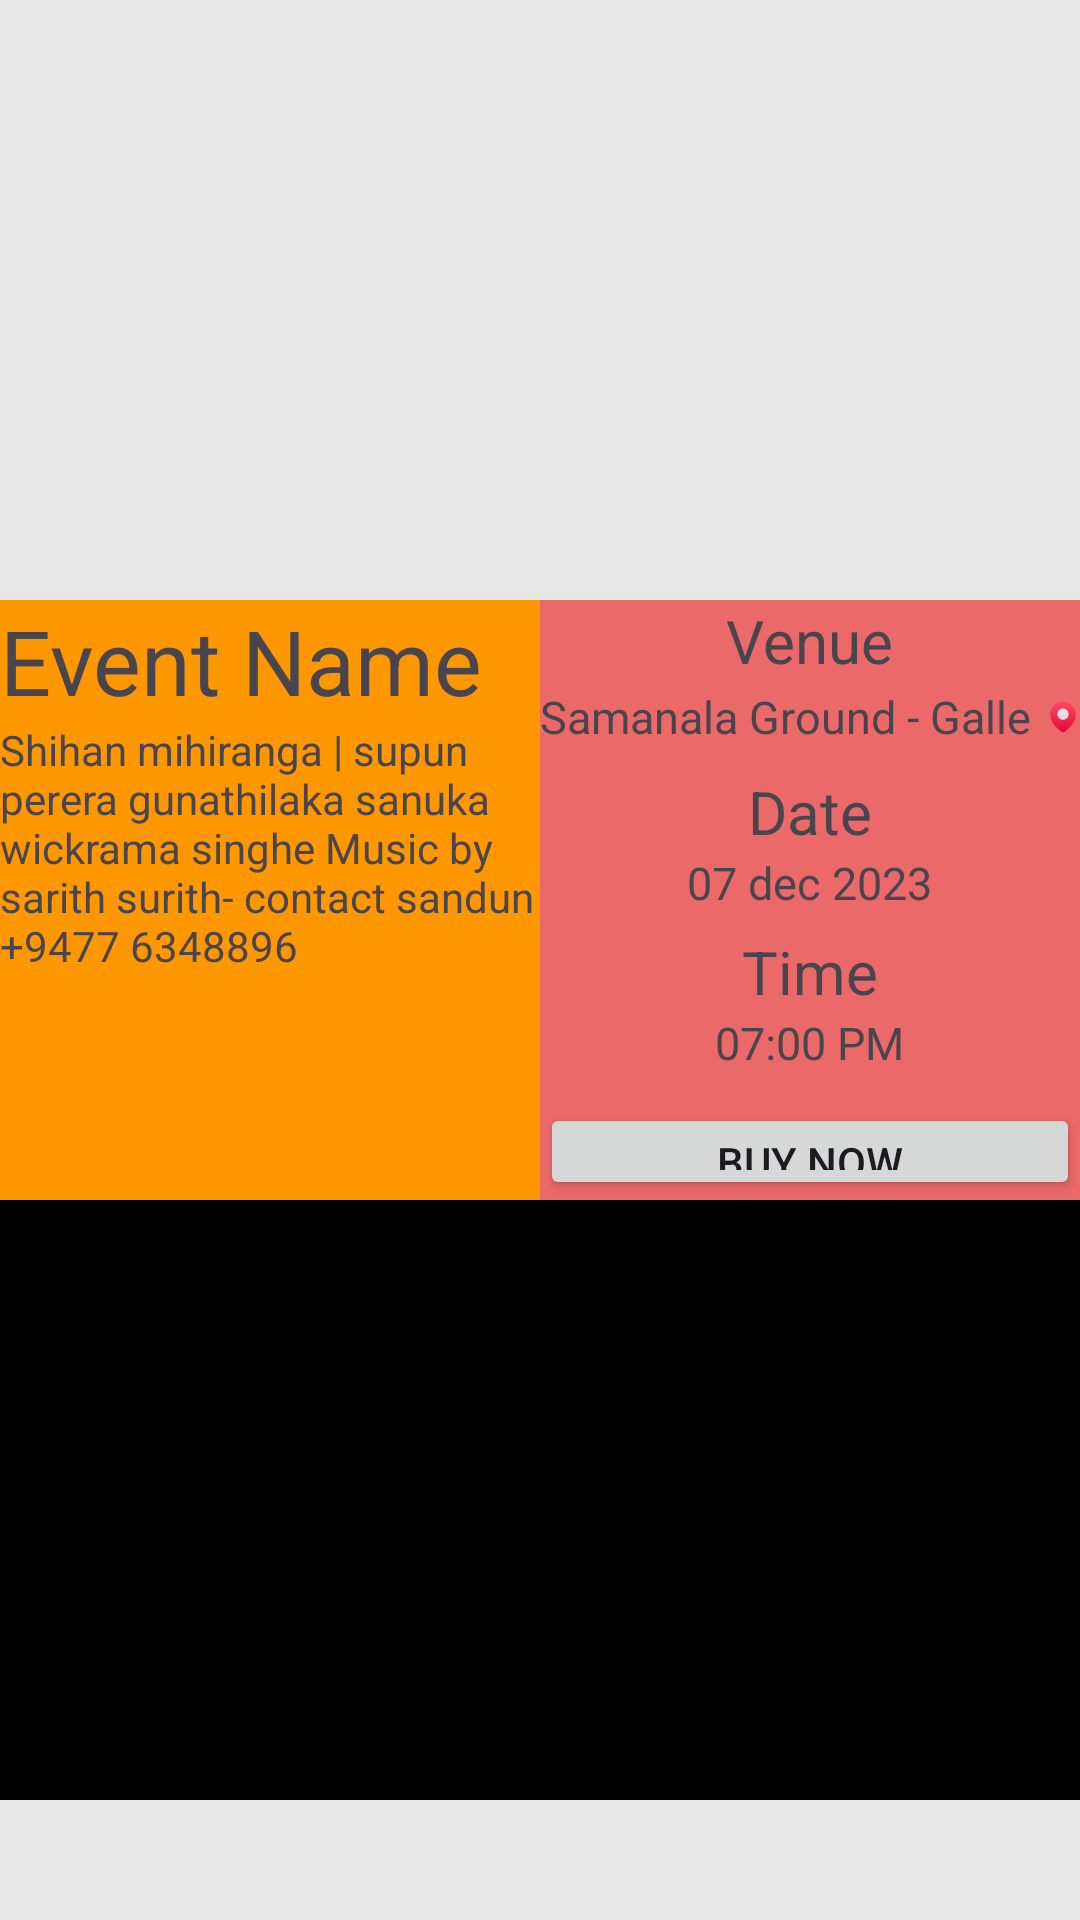

Icon click points for this 1080px×1920px phone screenshot, format [x,y]:
location: [1063,717]
